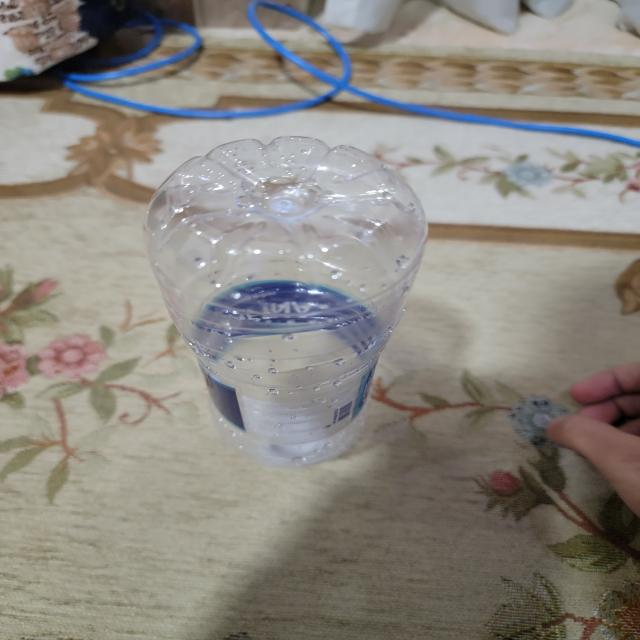Anorganik: (138, 129, 435, 473)
